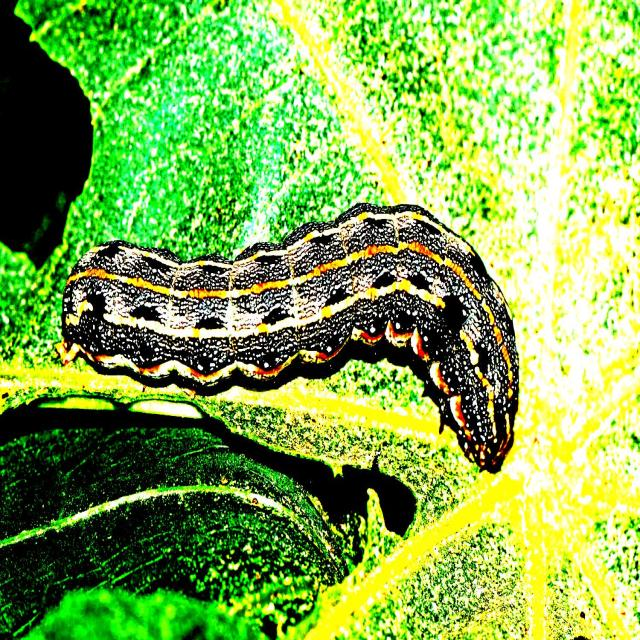Armyworm: (59, 187, 518, 486)
